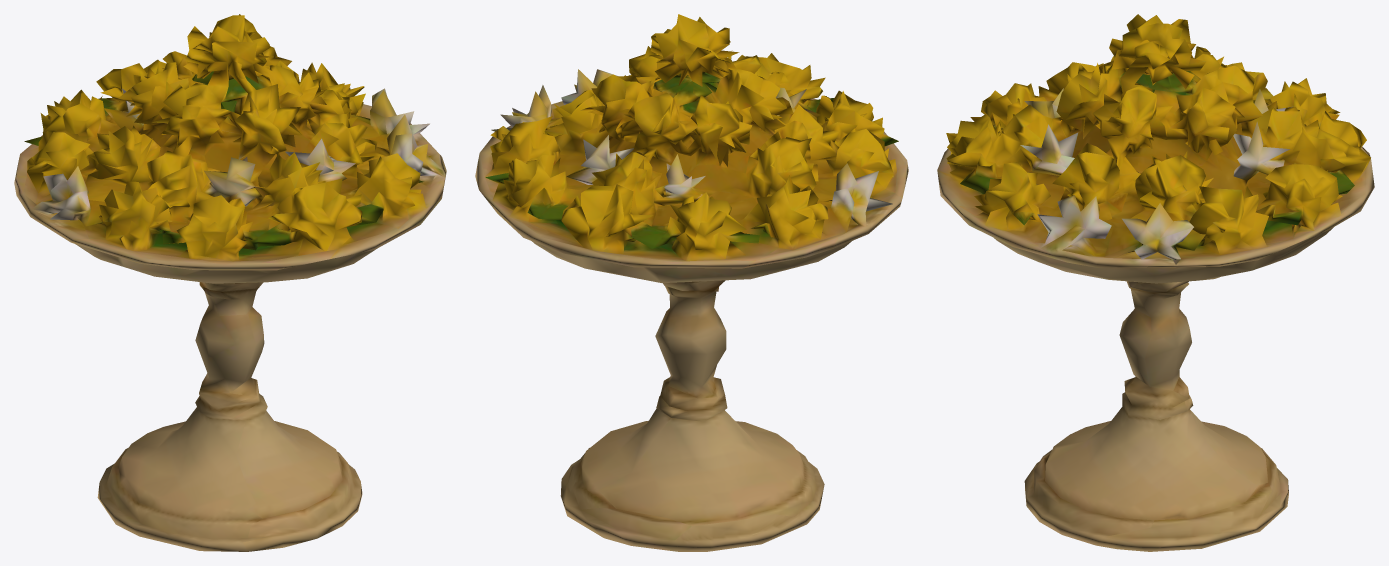
File: phanphum.glb
The picture shows the model from 3 angles, left to right: view 1: azimuth 30°, elevation 25°; view 2: azimuth 150°, elevation 25°; view 3: azimuth 270°, elevation 25°; orthographic projection.
Visible parts, largest first — view 1: tripo_node_06141788-b11a-4450-9531-d2a1874cae02; view 2: tripo_node_06141788-b11a-4450-9531-d2a1874cae02; view 3: tripo_node_06141788-b11a-4450-9531-d2a1874cae02.
Part boxes in pixels (<box>): tripo_node_06141788-b11a-4450-9531-d2a1874cae02: <box>14,14,446,551</box>; tripo_node_06141788-b11a-4450-9531-d2a1874cae02: <box>475,14,908,551</box>; tripo_node_06141788-b11a-4450-9531-d2a1874cae02: <box>937,14,1374,551</box>.
Size of the model in its own units: 0.834 by 1 by 0.8268.
1 material, 1 textured.
